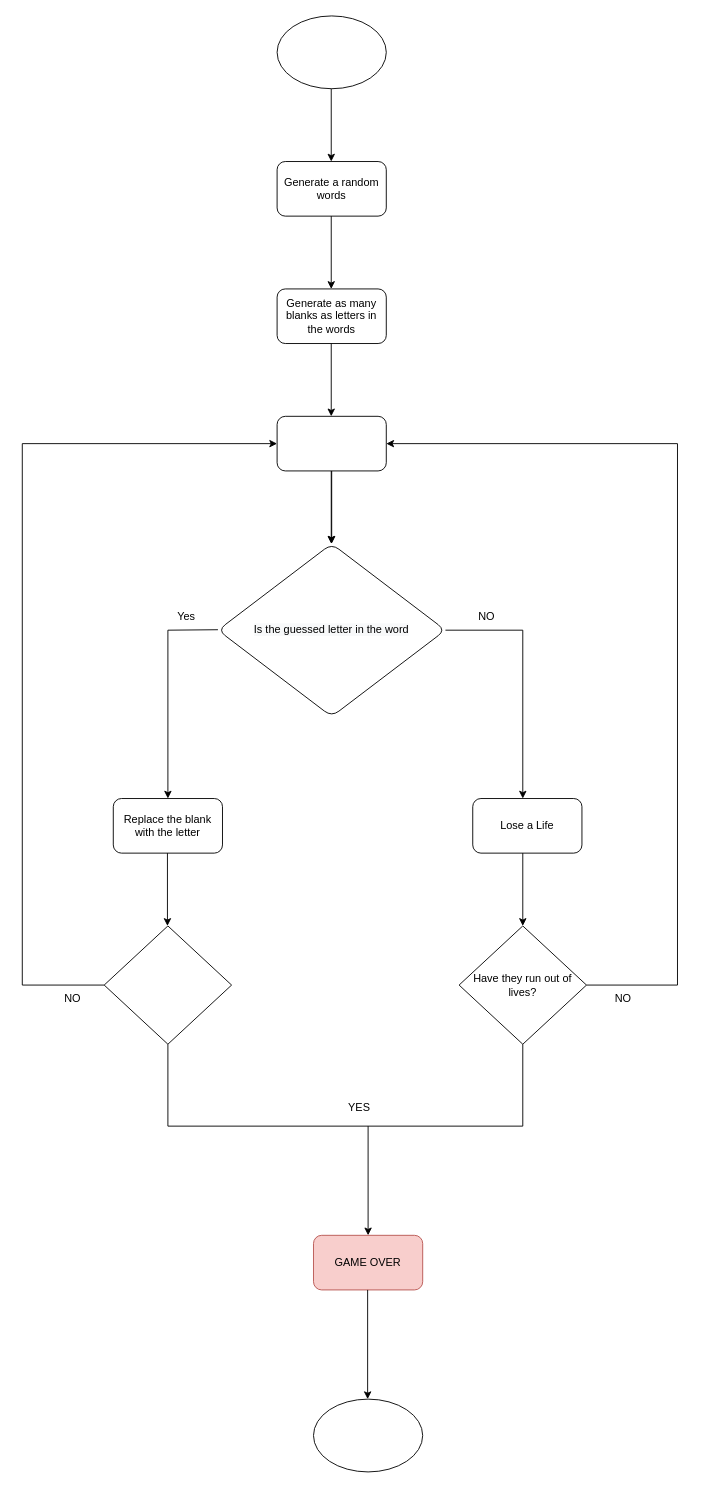
Some shapes in this 701 by 1488 pixel diagram are drawn without their labels. Here are the shapes that lost their labels. From the top down, the centre of each, then its label:
At (x=331, y=52): "Start".
At (x=331, y=443): "Ask the user to guess the letters".
At (x=167, y=984): "Are all the blanks satisfied".
At (x=368, y=1435): "Stop".
